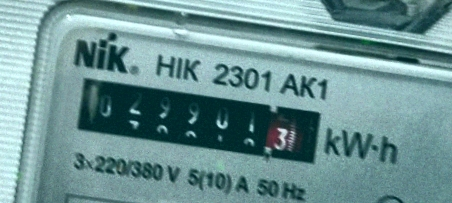0: (93, 89, 115, 119), (212, 101, 232, 132)
1: (243, 105, 260, 134)
2: (124, 88, 146, 117)
3: (269, 124, 290, 152)
9: (154, 92, 173, 121), (184, 98, 201, 126)
screen: (65, 66, 333, 175)
